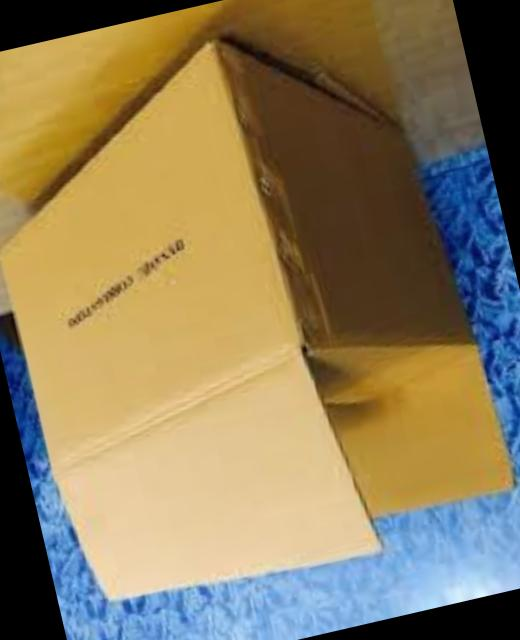cardboard paper: (7, 45, 517, 601)
